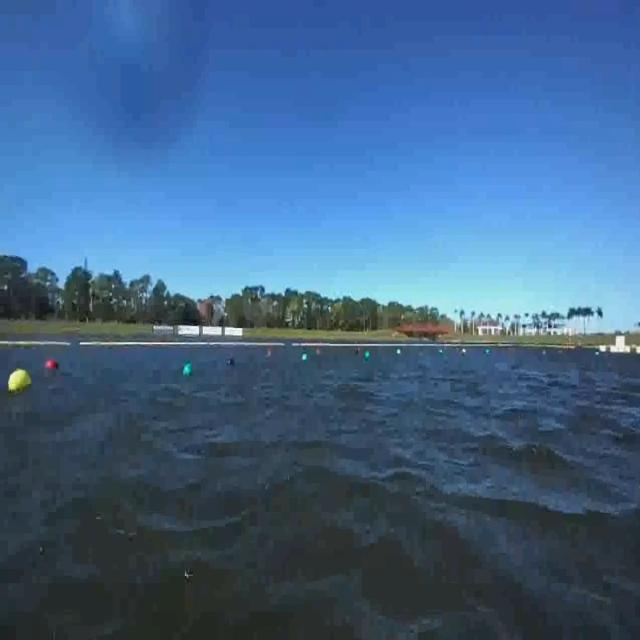green-buoy: (184, 362, 192, 376)
red-buoy: (45, 359, 58, 369)
yellow-buoy: (8, 368, 32, 392)
